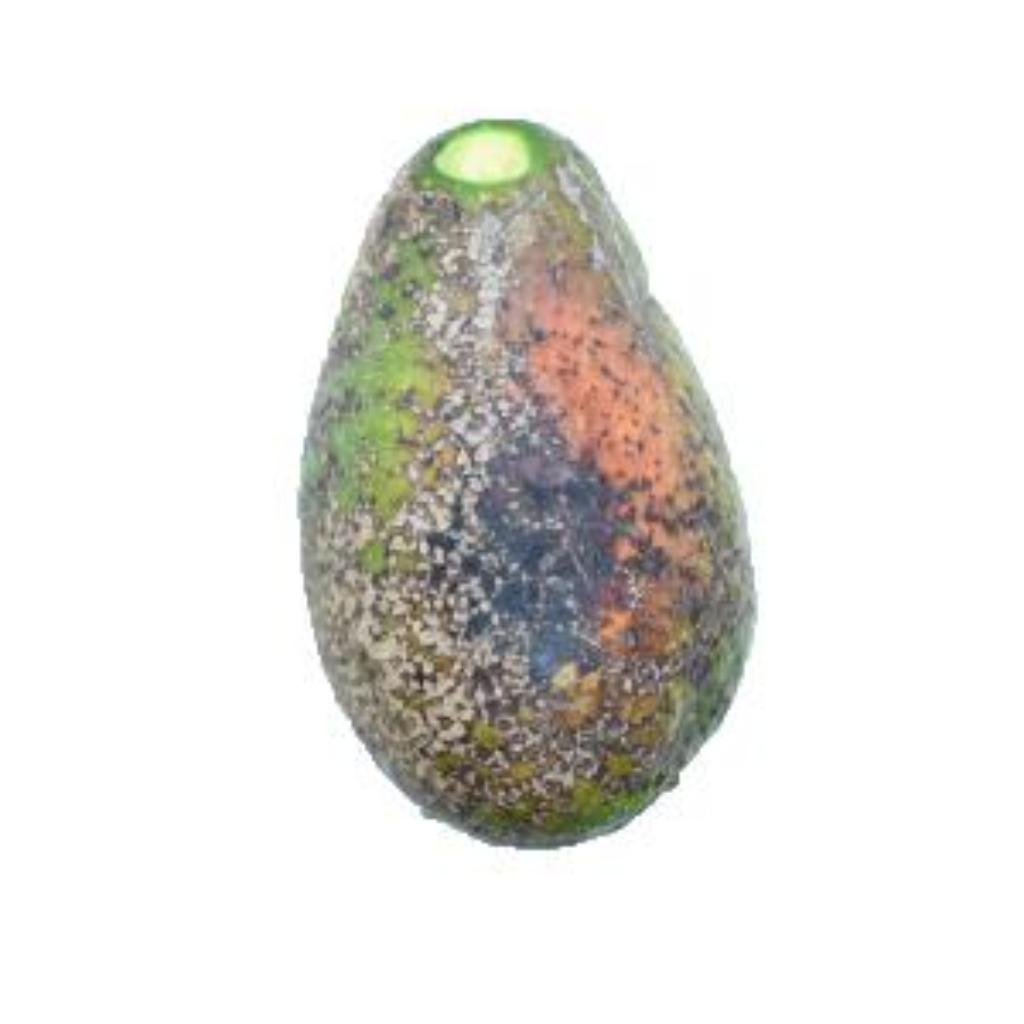cercospora: (286, 89, 778, 860)
